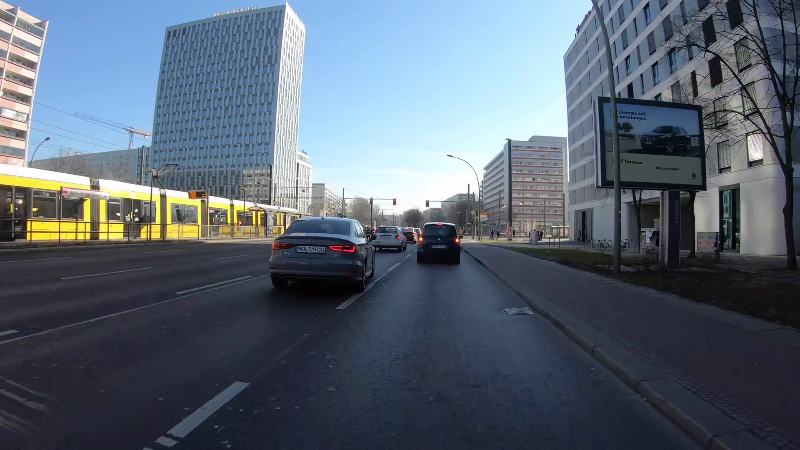Plate: (293, 243, 327, 254), (428, 244, 449, 250), (378, 234, 392, 240)
